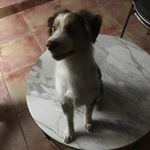puppy: (42, 5, 110, 146)
